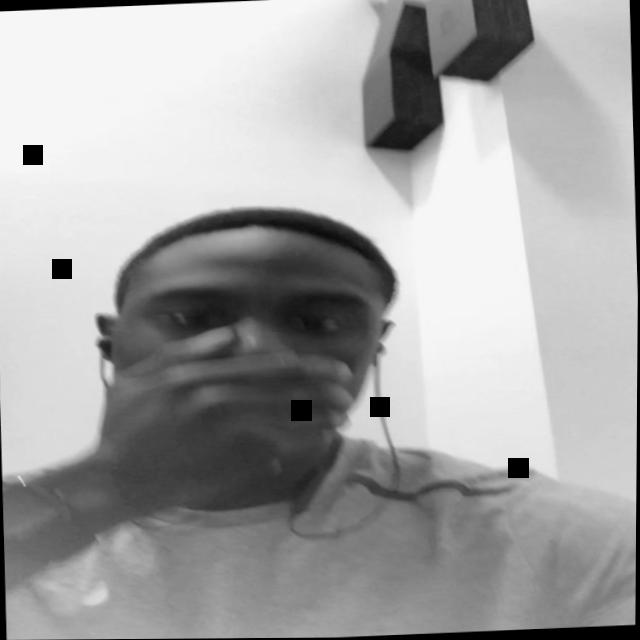NO-Mask: (103, 242, 400, 456)
